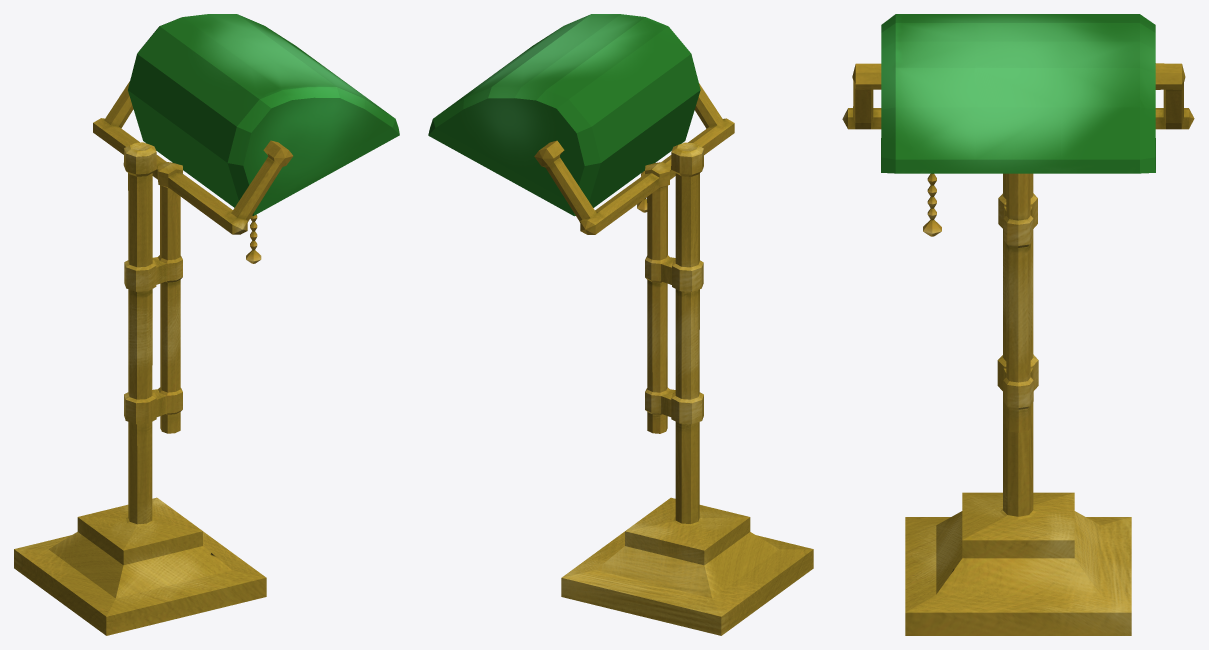
File: iconicLamp_textured.fbx
3 views of the same model, side by side, from view 1: azimuth 30°, elevation 25°; view 2: azimuth 150°, elevation 25°; view 3: azimuth 270°, elevation 25° (orthographic). The views are drawn at different scales.
Parts seen in each view (by area): view 1: iconiclamp_glass_oPP:ZBrushPolyMesh3D1; view 2: iconiclamp_glass_oPP:ZBrushPolyMesh3D1; view 3: iconiclamp_glass_oPP:ZBrushPolyMesh3D1.
Boxes of the visible parts, x1,y1,x2,y2 form: iconiclamp_glass_oPP:ZBrushPolyMesh3D1: (14, 14, 399, 635); iconiclamp_glass_oPP:ZBrushPolyMesh3D1: (428, 14, 813, 635); iconiclamp_glass_oPP:ZBrushPolyMesh3D1: (842, 14, 1194, 635).
Bounding box in the file's own units: 14.41 × 24.2 × 12.46.
